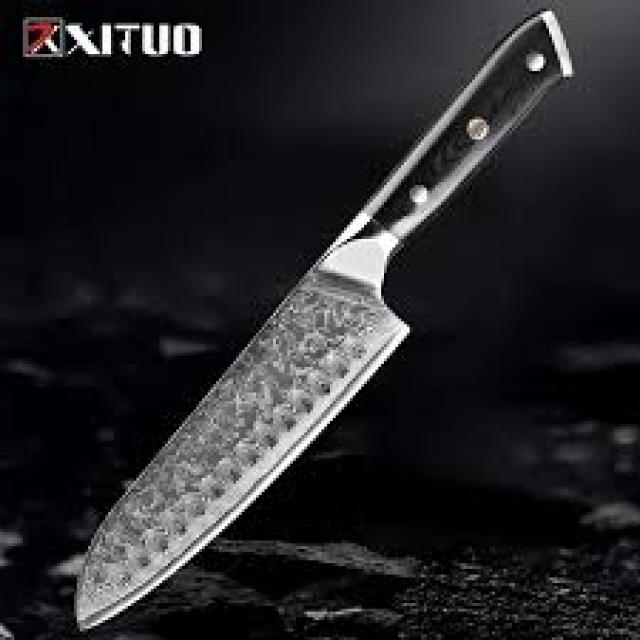Knife: (74, 9, 572, 629)
